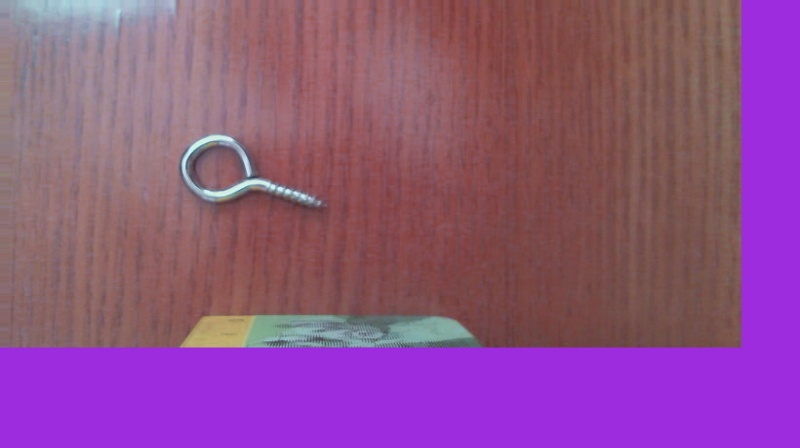O001: (169, 131, 332, 223)
